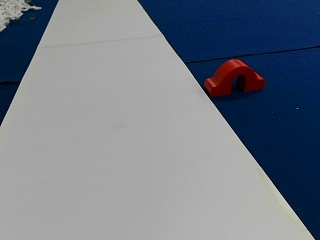bridge: (206, 59, 264, 94)
